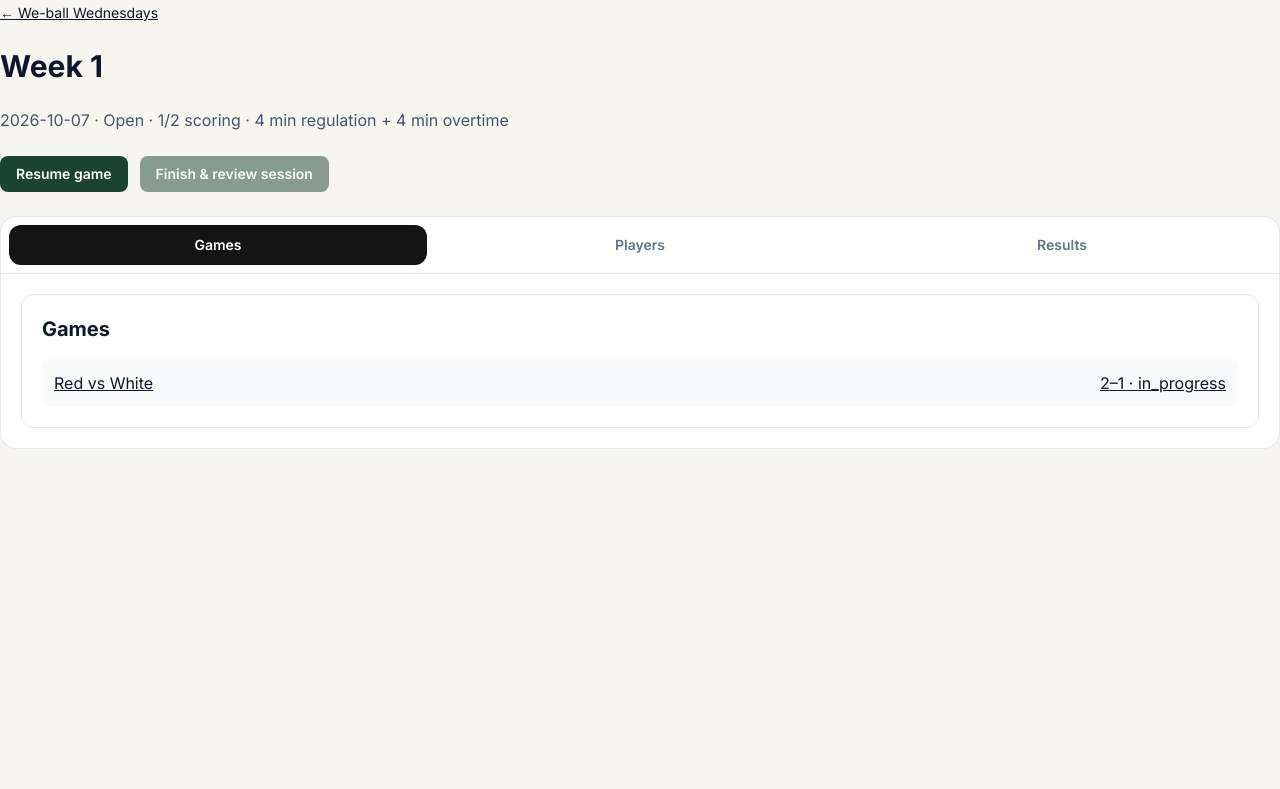
Test: the weekly tracker action stays visible when viewing players or results
Click the tab "Players": {"x": 640, "y": 245} [431,225,849,265]
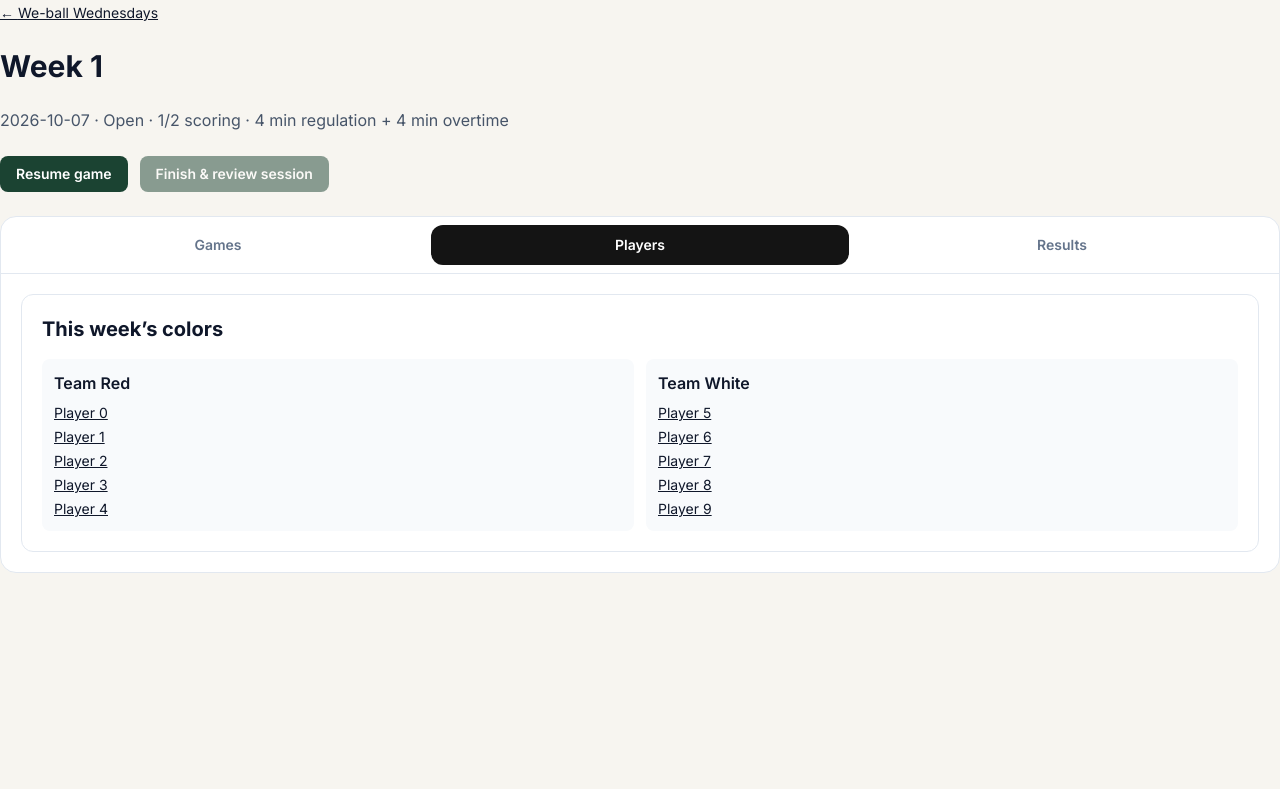
expect the link "Resume game" is shown: met, box [0,156,128,192]
expect the heading "This week’s colors" is shown: met, box [42,317,223,341]
Click the tab "Results": {"x": 1062, "y": 245} [853,225,1271,265]
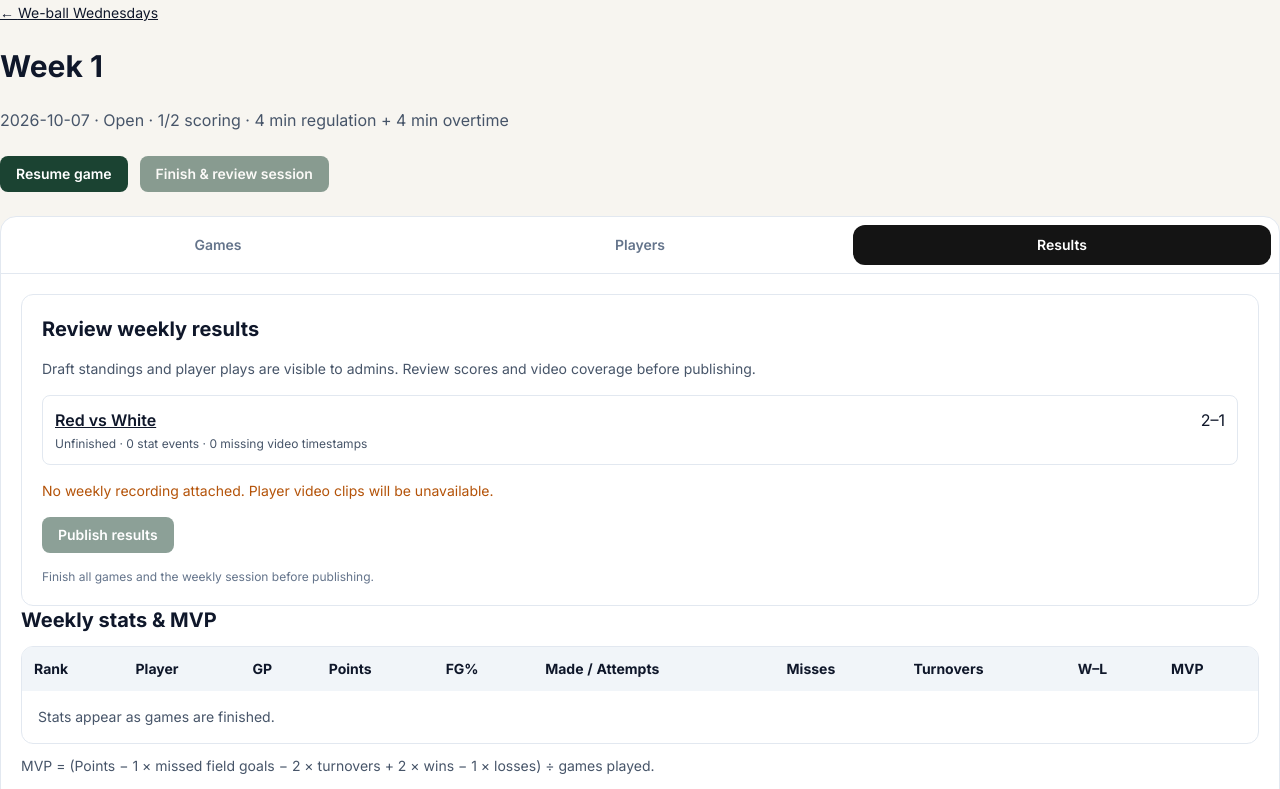
expect the heading "Review weekly results" is shown: met, box [42,317,259,341]
expect the button "Publish results" is disabled: met, box [42,517,174,553]
